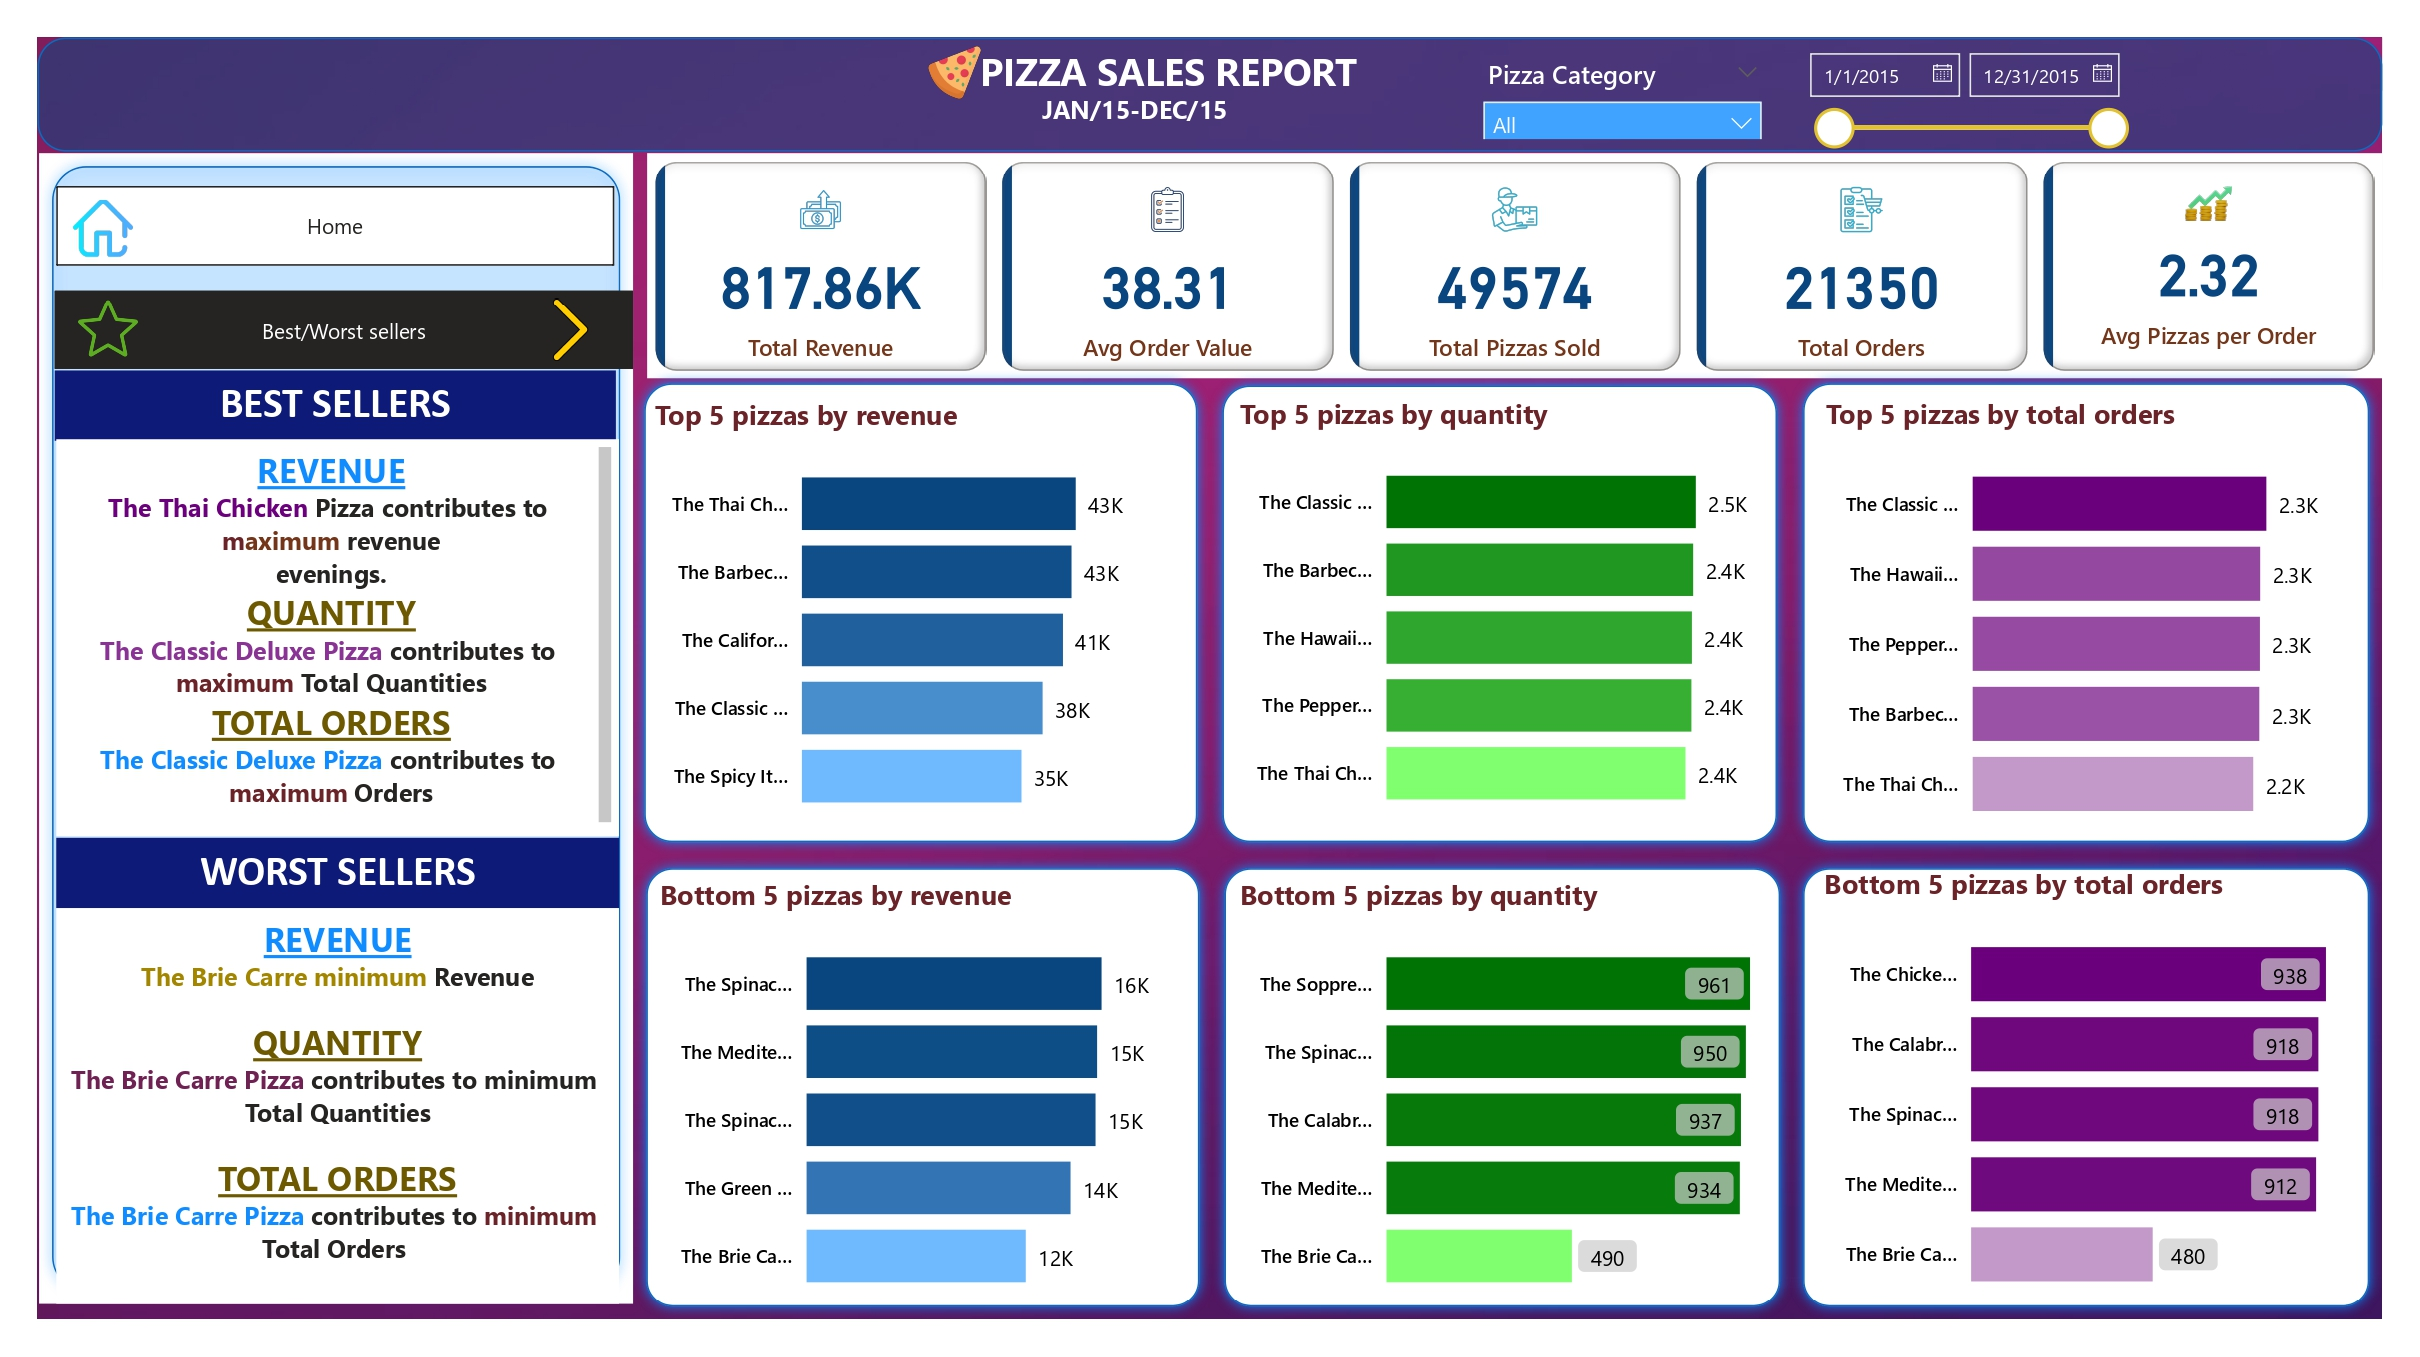

The dashboard page shown, as its layout file describes it:
{"tool":"powerbi","page":{"name":"Best/Worst sellers","canvas":[1500,820],"ordinal":1},"visuals":[{"type":"cardVisual","fields":{"Data":["pizza_sales.Total Revenue","pizza_sales.Avg Order Value","pizza_sales.Total Pizzas Sold","pizza_sales.Total Orders","pizza_sales.Avg Pizzas per Order"]},"box":[390,73.8,1110,143.8],"z":0},{"type":"shape","box":[0,0,1500,72.5],"z":1000},{"type":"textbox","box":[555,0,293.8,42.5],"z":2000},{"type":"textbox","box":[625,30,153.8,42.5],"z":3000},{"type":"image","box":[555,0,62.5,45],"z":4000},{"type":"shape","box":[380,212.5,370,310],"z":5000},{"type":"shape","box":[1.2,73.8,380,736.2],"z":6000},{"type":"textbox","box":[11.2,212.5,358.8,45],"z":7000},{"type":"textbox","box":[12.3,257.4,359.5,253.3],"z":8000},{"type":"textbox","box":[12.3,512,359.5,44.9],"z":9000},{"type":"textbox","box":[12.3,556.9,359.5,253.3],"z":10000},{"type":"slicer","fields":{"Values":["pizza_sales.pizza_category"]},"box":[915,7.5,197.5,57.5],"z":11000},{"type":"slicer","fields":{"Values":["pizza_sales.order_date"]},"box":[1121.2,0,225,72.5],"z":12000},{"type":"shape","box":[750,213.8,371.2,308.8],"z":13000},{"type":"shape","box":[1121.2,212.5,378.8,310],"z":14000},{"type":"shape","box":[381.2,522.5,370,297.5],"z":15000},{"type":"shape","box":[751.2,522.5,371.2,297.5],"z":16000},{"type":"shape","box":[1121.2,522.5,378.8,297.5],"z":17000},{"type":"barChart","title":"Top 5 pizzas by revenue","fields":{"Category":["pizza_sales.pizza_name"],"Y":["pizza_sales.Total Revenue"]},"box":[390,228.8,346.2,283.8],"z":18000},{"type":"barChart","title":"Bottom 5 pizzas by revenue","fields":{"Category":["pizza_sales.pizza_name"],"Y":["pizza_sales.Total Revenue"]},"box":[392.5,536.2,346.2,283.8],"z":19000},{"type":"barChart","title":"Top 5 pizzas by quantity","fields":{"Category":["pizza_sales.pizza_name"],"Y":["pizza_sales.Total Pizzas Sold"]},"box":[763.8,227.5,346.2,283.8],"z":20000},{"type":"barChart","title":"Bottom 5 pizzas by quantity","fields":{"Category":["pizza_sales.pizza_name"],"Y":["pizza_sales.Total Pizzas Sold"]},"box":[763.8,536.2,346.2,283.8],"z":21000},{"type":"barChart","title":"Top 5 pizzas by total orders","fields":{"Category":["pizza_sales.pizza_name"],"Y":["pizza_sales.Total Orders"]},"box":[1138.8,227.5,346.2,291.2],"z":22000},{"type":"barChart","title":"Bottom 5 pizzas by total orders","fields":{"Category":["pizza_sales.pizza_name"],"Y":["pizza_sales.Total Orders"]},"box":[1137.5,528.8,346.2,291.2],"z":23000},{"type":"pageNavigator","box":[10.9,162,370.4,50.4],"z":23001},{"type":"pageNavigator","box":[12.3,95.3,356.8,50.4],"z":23002},{"type":"image","box":[302.3,162,77.6,50.4],"z":23003},{"type":"image","box":[10.9,98,61.3,47.7],"z":23004},{"type":"image","box":[17.7,162,54.5,47.7],"z":23005}]}

Visuals, with their boxes in screenshot pixels (x1, y1, x2, y2):
cardVisual - pizza_sales.Total Revenue x pizza_sales.Avg Order Value: region(647, 153, 2382, 378)
shape: region(38, 38, 2382, 151)
textbox: region(905, 38, 1364, 104)
textbox: region(1015, 84, 1255, 151)
image: region(905, 38, 1003, 108)
shape: region(632, 370, 1210, 854)
shape: region(39, 153, 633, 1304)
textbox: region(55, 370, 616, 440)
textbox: region(57, 440, 619, 836)
textbox: region(57, 838, 619, 908)
textbox: region(57, 908, 619, 1304)
slicer - pizza_sales.pizza_category: region(1468, 49, 1777, 139)
slicer - pizza_sales.order_date: region(1790, 38, 2142, 151)
shape: region(1210, 372, 1790, 855)
shape: region(1790, 370, 2382, 854)
shape: region(633, 854, 1212, 1319)
shape: region(1212, 854, 1792, 1319)
shape: region(1790, 854, 2382, 1319)
"Top 5 pizzas by revenue" barChart: region(647, 395, 1188, 839)
"Bottom 5 pizzas by revenue" barChart: region(651, 876, 1192, 1319)
"Top 5 pizzas by quantity" barChart: region(1232, 393, 1773, 837)
"Bottom 5 pizzas by quantity" barChart: region(1232, 876, 1773, 1319)
"Top 5 pizzas by total orders" barChart: region(1818, 393, 2359, 848)
"Bottom 5 pizzas by total orders" barChart: region(1816, 864, 2357, 1319)
pageNavigator: region(55, 291, 634, 370)
pageNavigator: region(57, 187, 615, 265)
image: region(510, 291, 631, 370)
image: region(55, 191, 150, 265)
image: region(65, 291, 150, 365)
